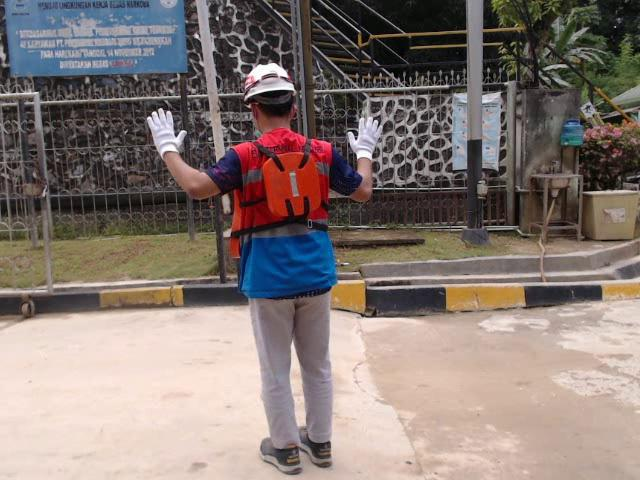gloves: (140, 109, 189, 160), (346, 115, 386, 161)
helmet: (241, 63, 300, 103)
safety-shoes: (259, 433, 303, 478), (299, 426, 340, 473)
vest: (254, 146, 328, 226)
